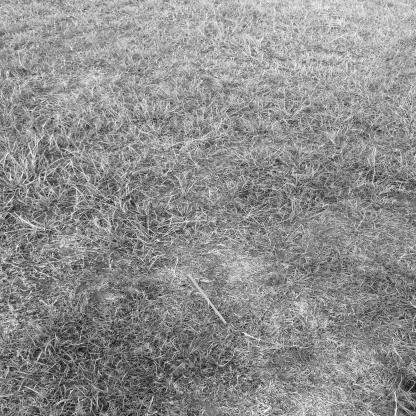plastic: (182, 271, 232, 329)
